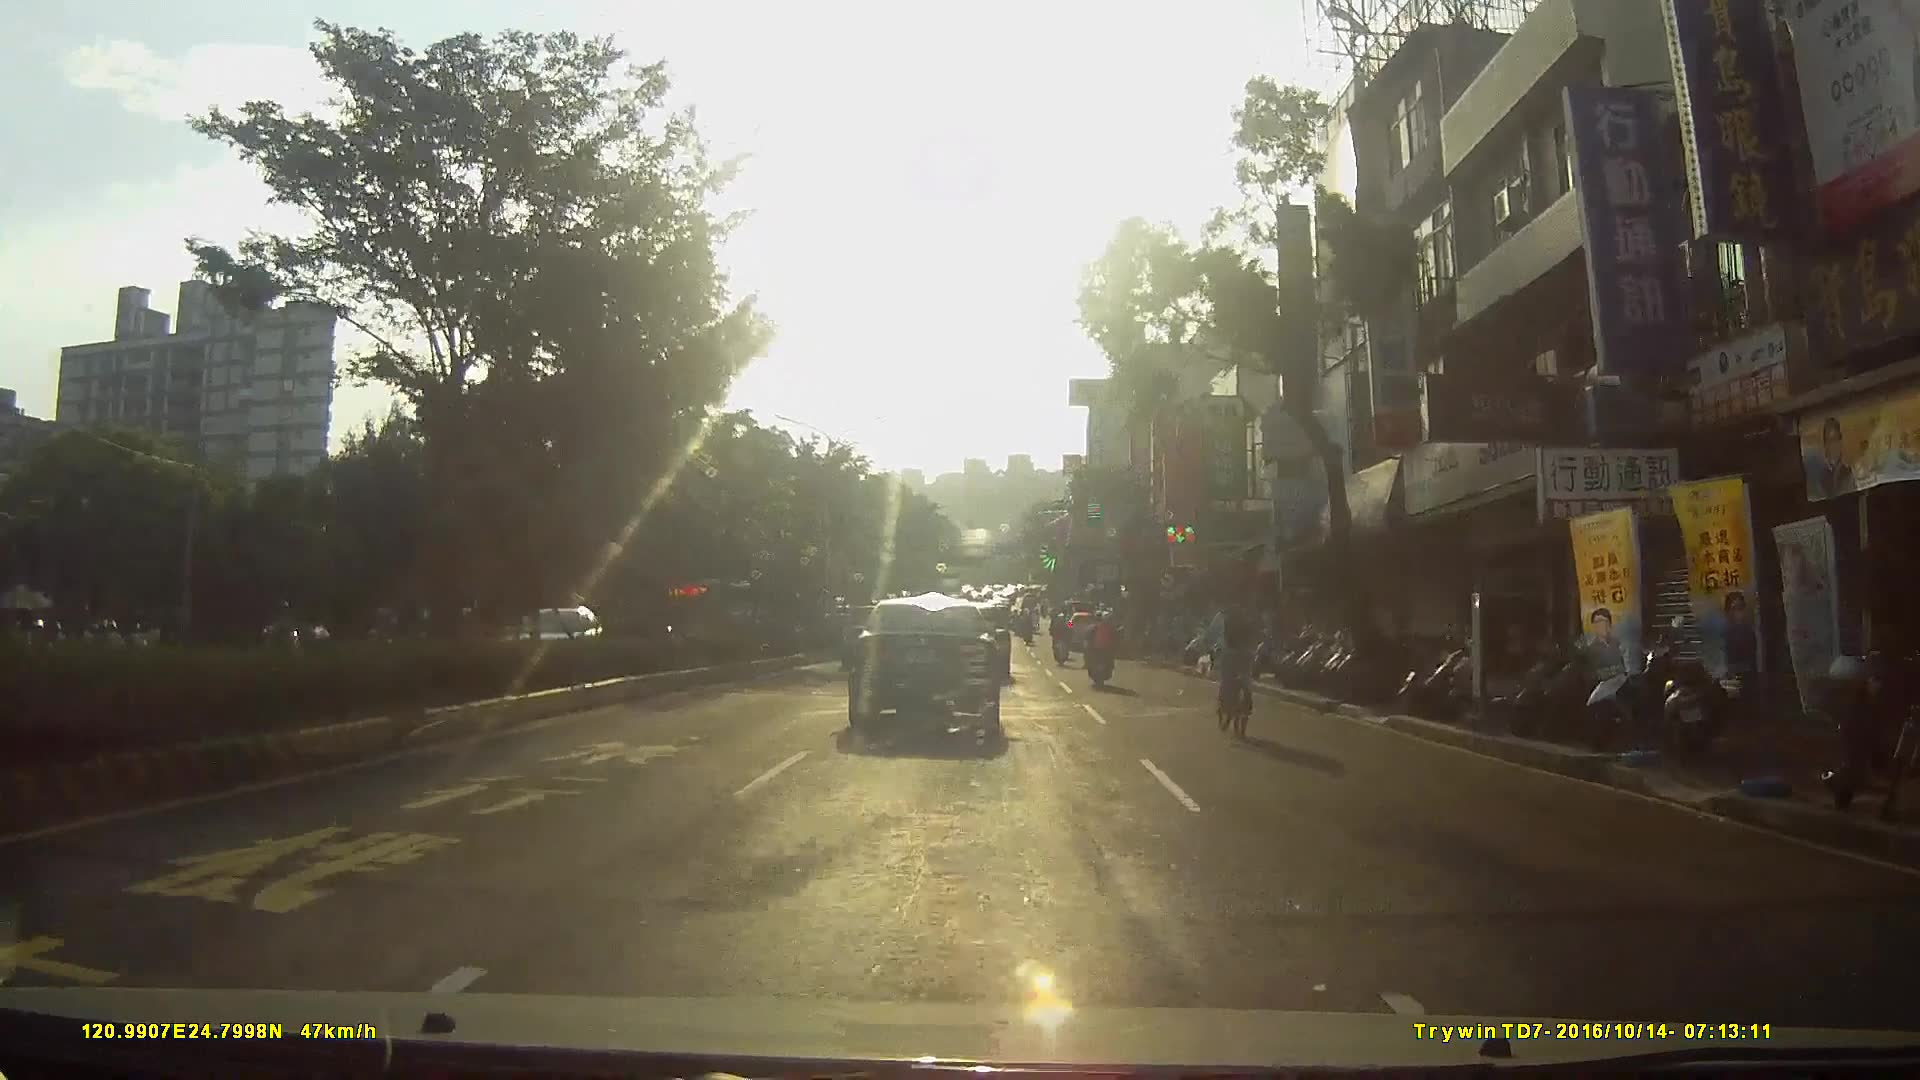rider: (1206, 586, 1275, 738), (254, 602, 316, 685), (1086, 612, 1119, 689), (1049, 610, 1075, 668)
vehicle: (849, 605, 1018, 754), (502, 610, 628, 685)
